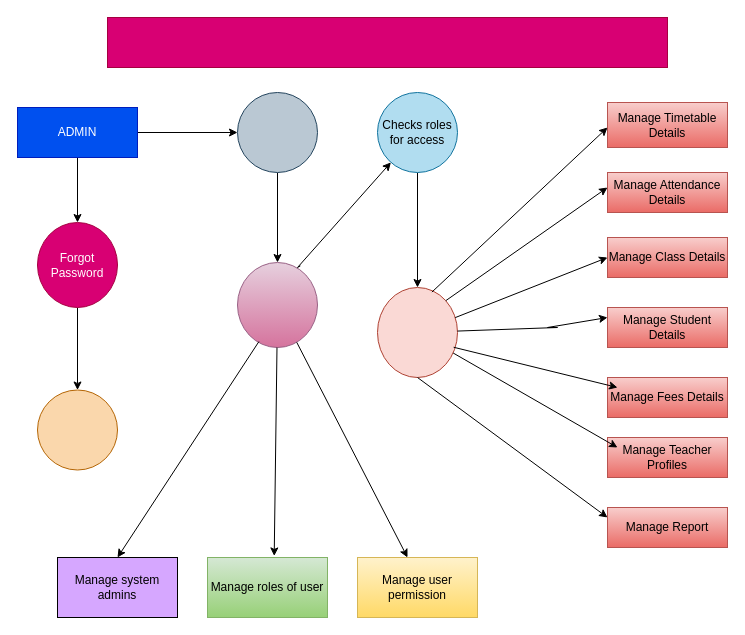
Image size: 745x635. Some labels were removed from this diagram. Here are the shapes that lost their labels. From the top down, the box of each, then its label:
(106, 16, 668, 68): STUDENT INFORMATION SYSTEM
(236, 92, 318, 172): Login to System
(236, 262, 318, 348): Check Credentials
(376, 286, 458, 378): Manage Modules
(36, 389, 118, 470): Send E-mail to user
